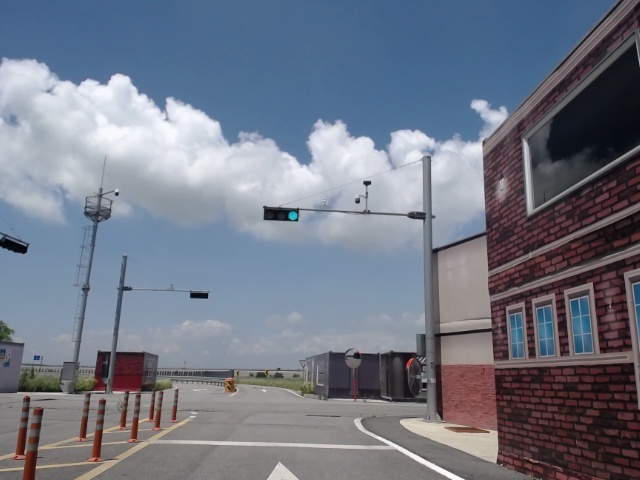green_3: (261, 204, 302, 223)
